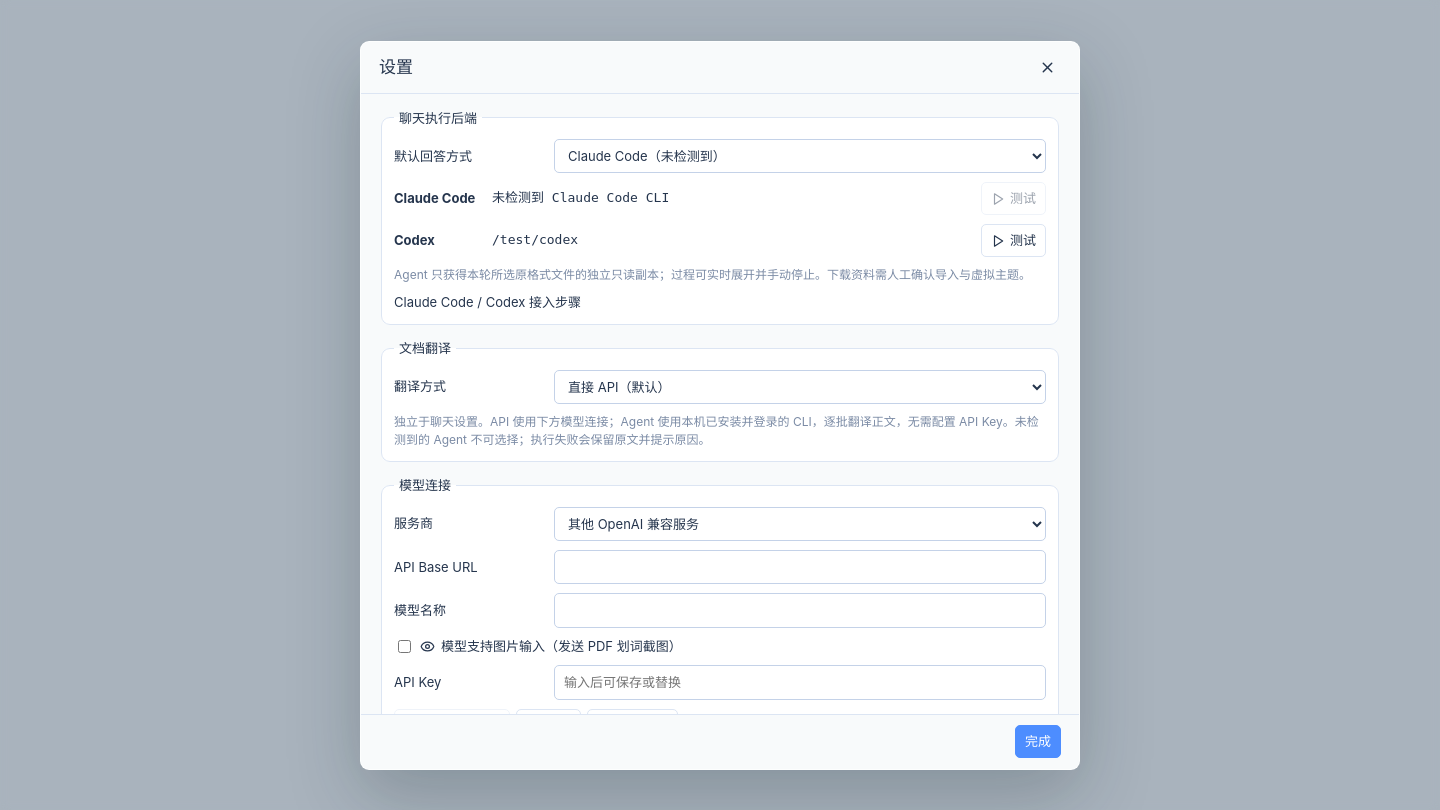
keeps translation independent from chat and allows only detected agents
The width and height of the screenshot is (1440, 810).
Select "Codex" in the dropdown labelled "翻译方式" at x=800, y=387, box [554, 370, 1046, 404]
(page scrolled)
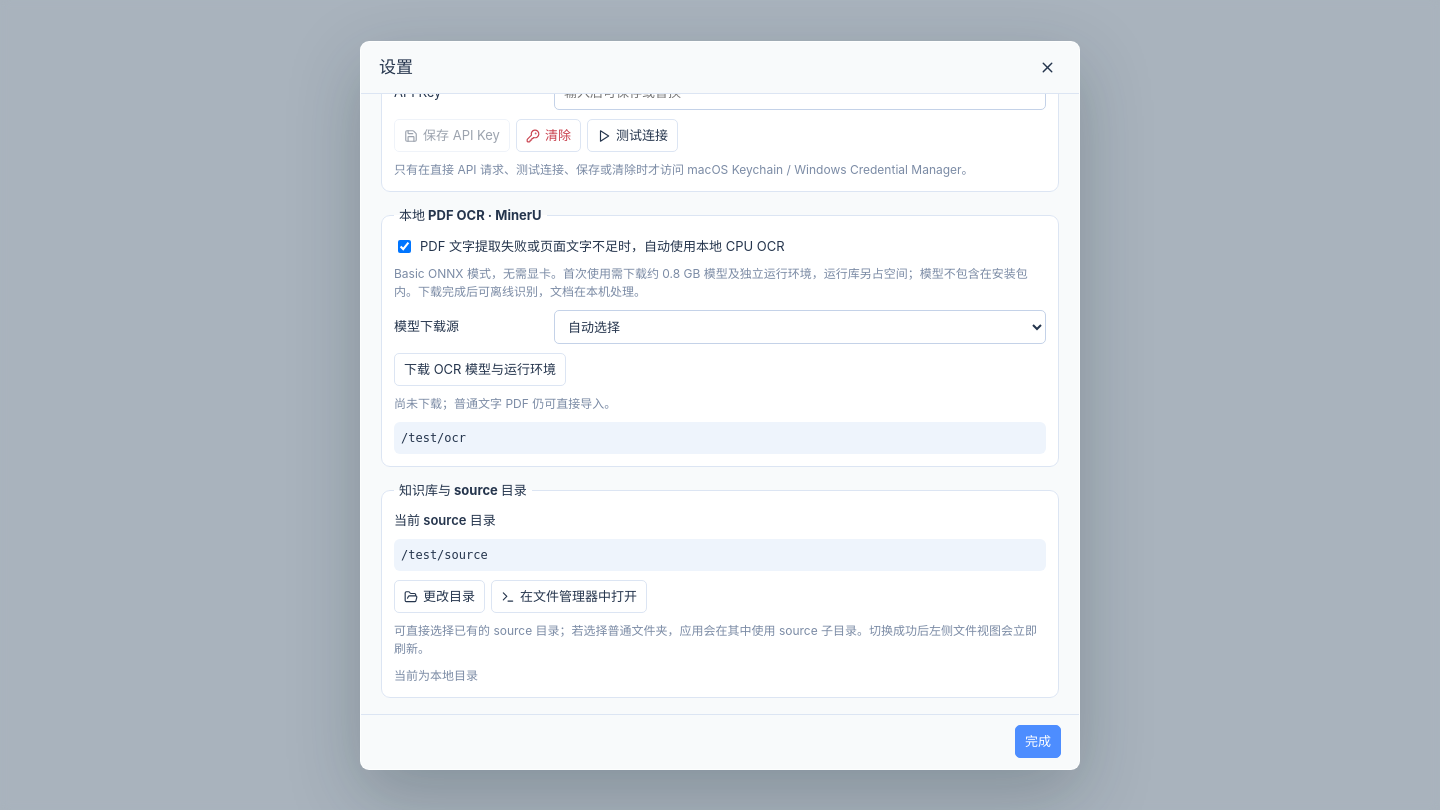
Now the text "尚未下载；普通文字 PDF 仍可直接导入。" is shown, box [394, 396, 616, 411]
